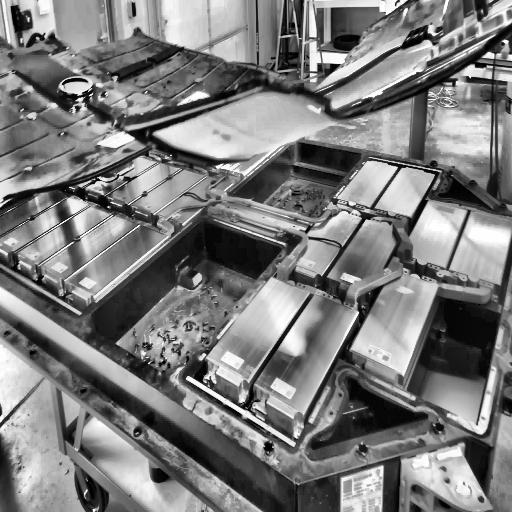battery_module: (255, 292, 357, 414), (206, 278, 309, 382), (350, 269, 440, 378), (286, 207, 363, 277), (328, 218, 401, 291), (449, 212, 512, 283), (404, 200, 467, 267), (374, 168, 435, 218), (335, 160, 398, 206)
busbar: (211, 190, 496, 311)
